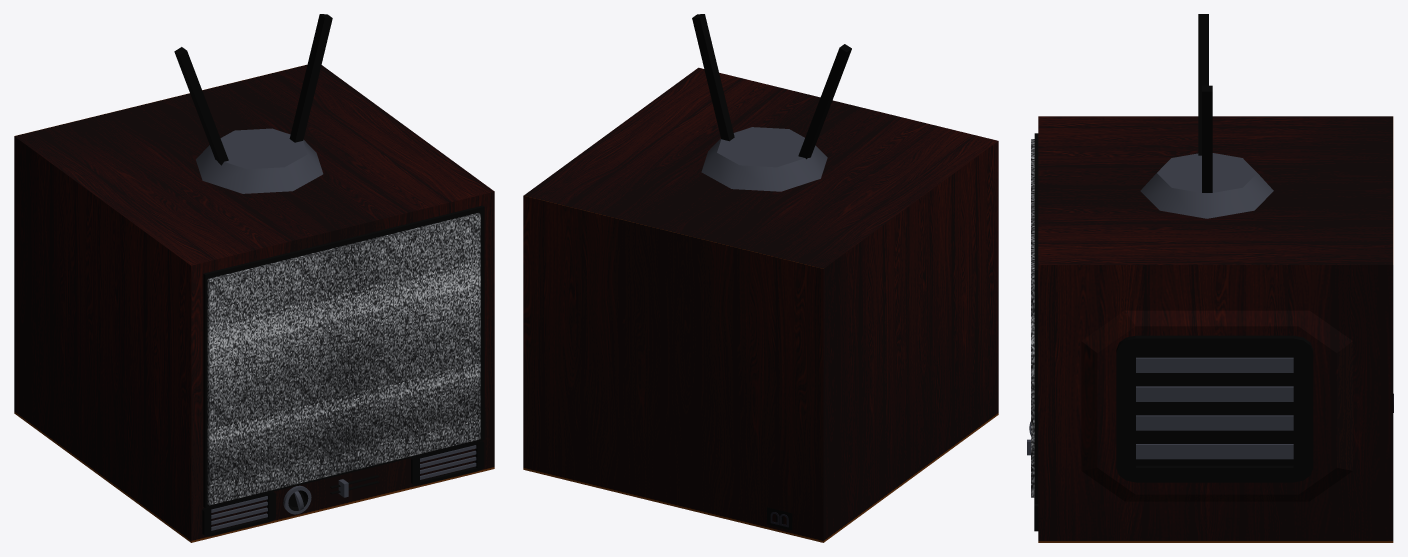
Rendered from Custom_TV.glb.
3 renders of one model, left to right at view 1: azimuth 30°, elevation 25°; view 2: azimuth 150°, elevation 25°; view 3: azimuth 270°, elevation 25°, orthographic.
Visible parts, largest first — view 1: mergedBlocks(Clone); view 2: mergedBlocks(Clone); view 3: mergedBlocks(Clone).
Boxes of the visible parts, x1=… form: mergedBlocks(Clone): x1=14, y1=14, x2=494, y2=542; mergedBlocks(Clone): x1=523, y1=14, x2=998, y2=542; mergedBlocks(Clone): x1=1027, y1=14, x2=1393, y2=542.
Size of the model in its own units: 1.04 by 1.29 by 1.03.
Materials: 9 (2 with a texture image).
